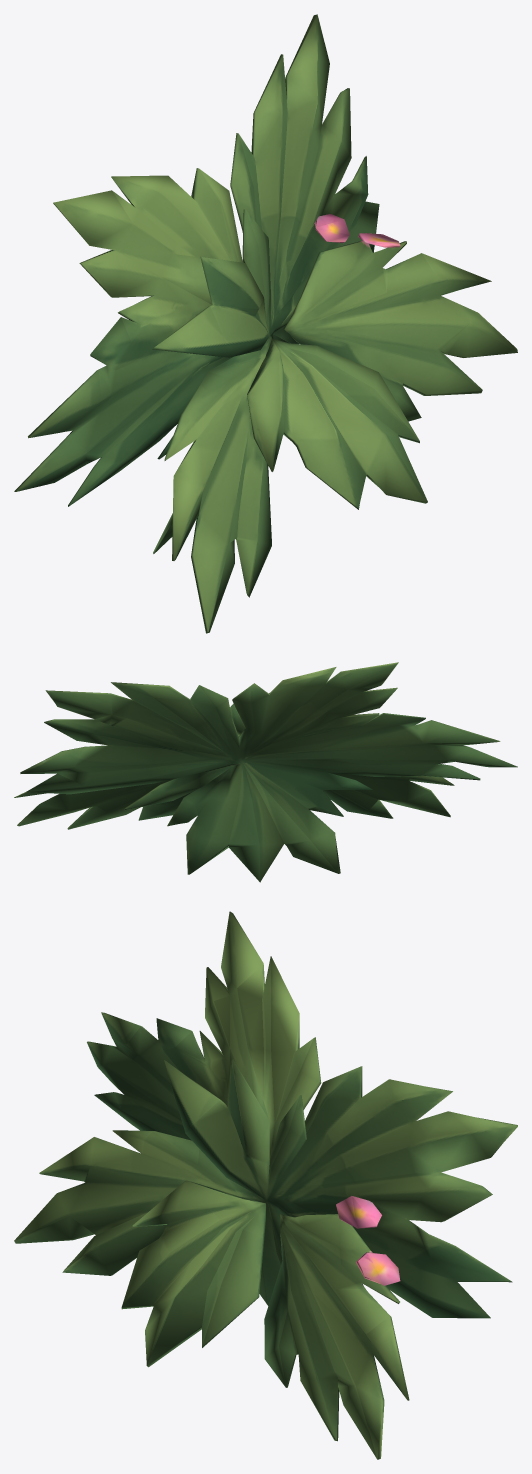
The picture shows the model from 3 angles, top to bottom: view 1: azimuth 30°, elevation 25°; view 2: azimuth 150°, elevation 25°; view 3: azimuth 270°, elevation 25°; orthographic projection. The views are drawn at different scales.
Parts seen in each view (by area): view 1: coast-shrub-2; view 2: coast-shrub-2; view 3: coast-shrub-2.
Part boxes in pixels (x1,y1,x2,y2): coast-shrub-2: [14, 14, 517, 633]; coast-shrub-2: [14, 662, 517, 882]; coast-shrub-2: [14, 911, 517, 1459].
Bounding box in the file's own units: 0.5332 × 0.2928 × 0.3888.
Materials: 1 (1 with a texture image).
